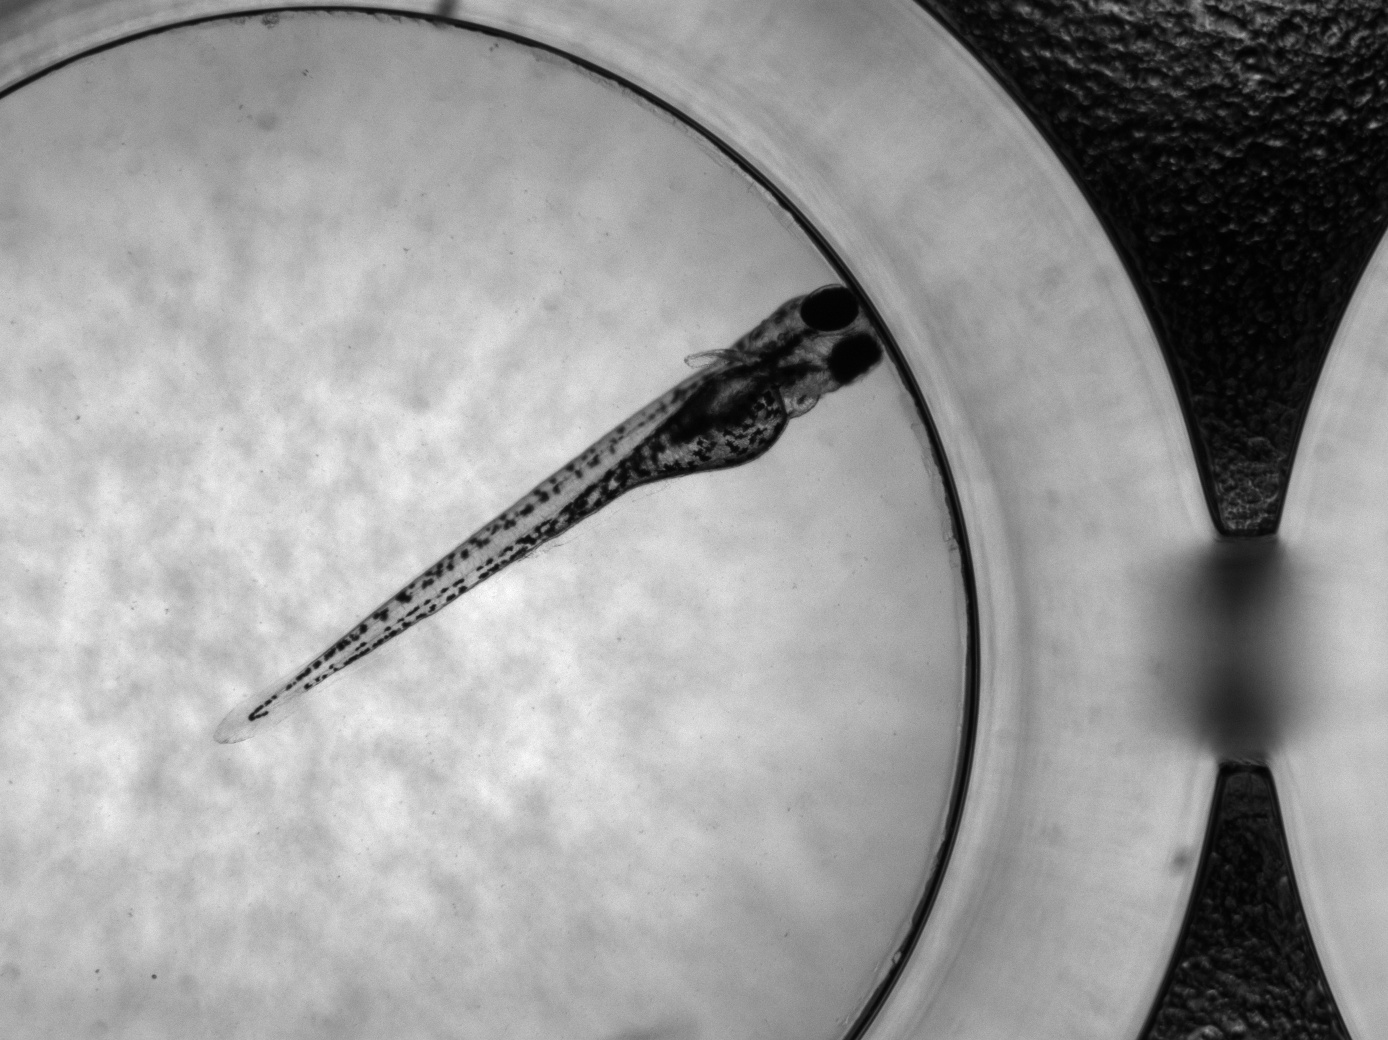embryo: (246, 285, 883, 723)
eye: (826, 333, 883, 385), (800, 285, 859, 331)
yolksac: (688, 365, 787, 471)
